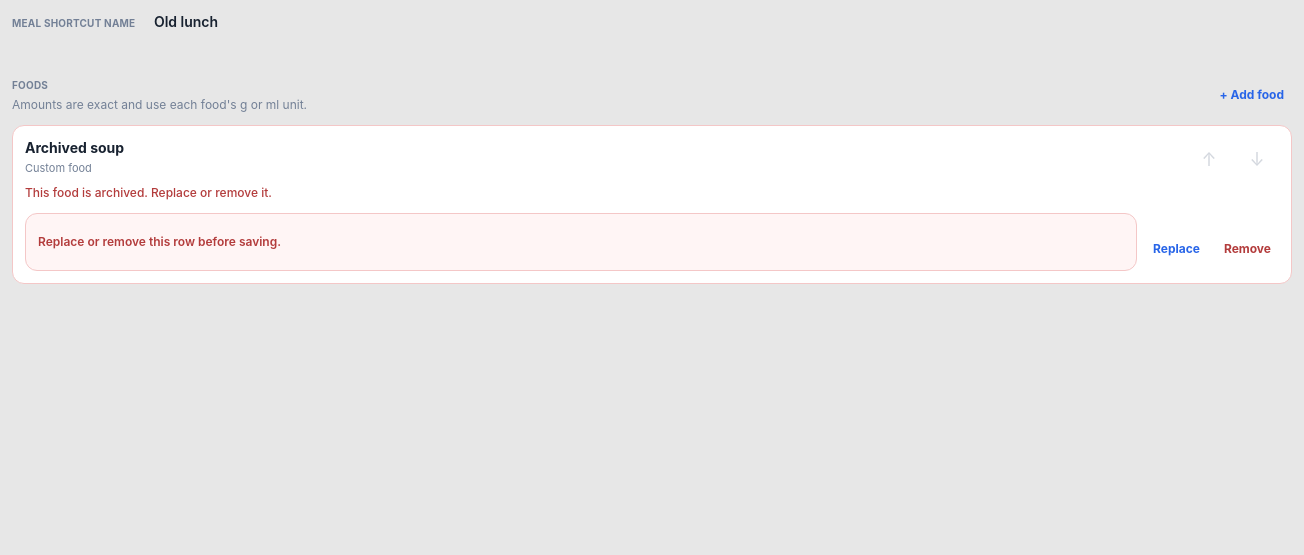
Test case: MealShortcutEditor › keeps blocked rows visible until they are replaced with an active food
Click the button "Replace" at (1176, 248), box [1145, 226, 1208, 270]
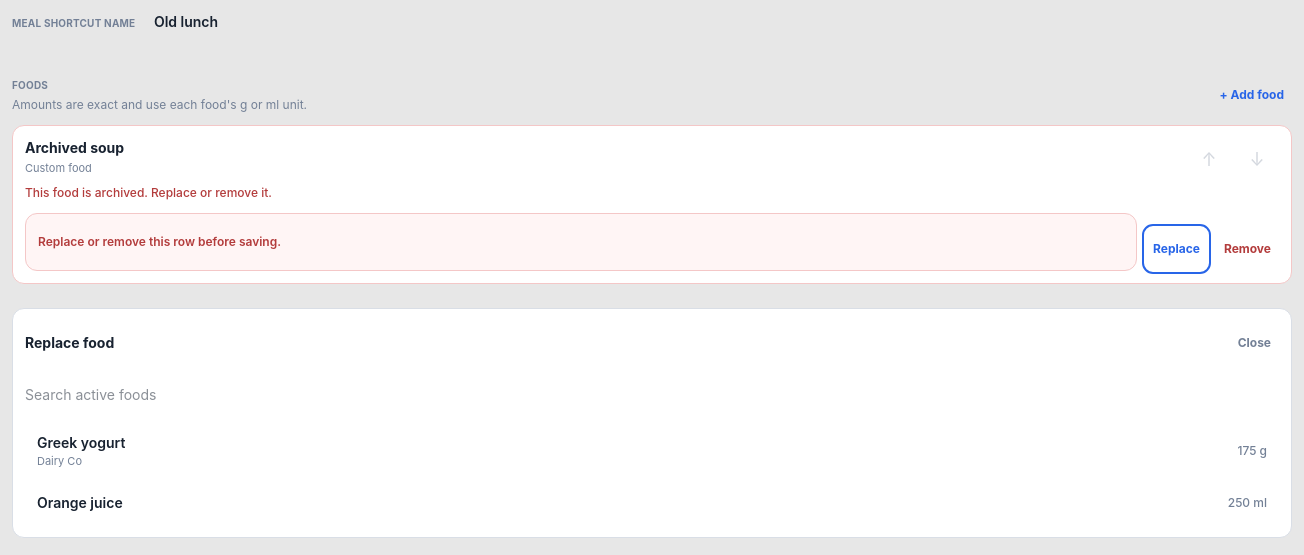
Type "orange" into the search field labelled "Search active foods" at (134, 394), box [25, 372, 243, 416]
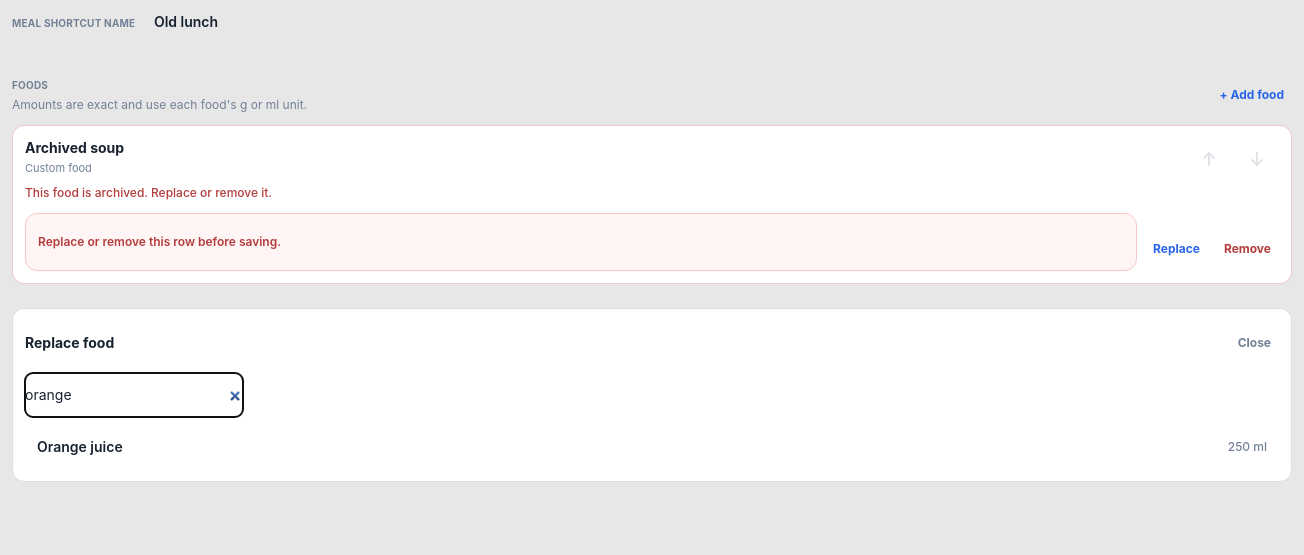
Expected: the button "Orange juice 250 ml" is shown
Click the button "Orange juice 250 ml" at (80, 446), box [25, 424, 1279, 468]
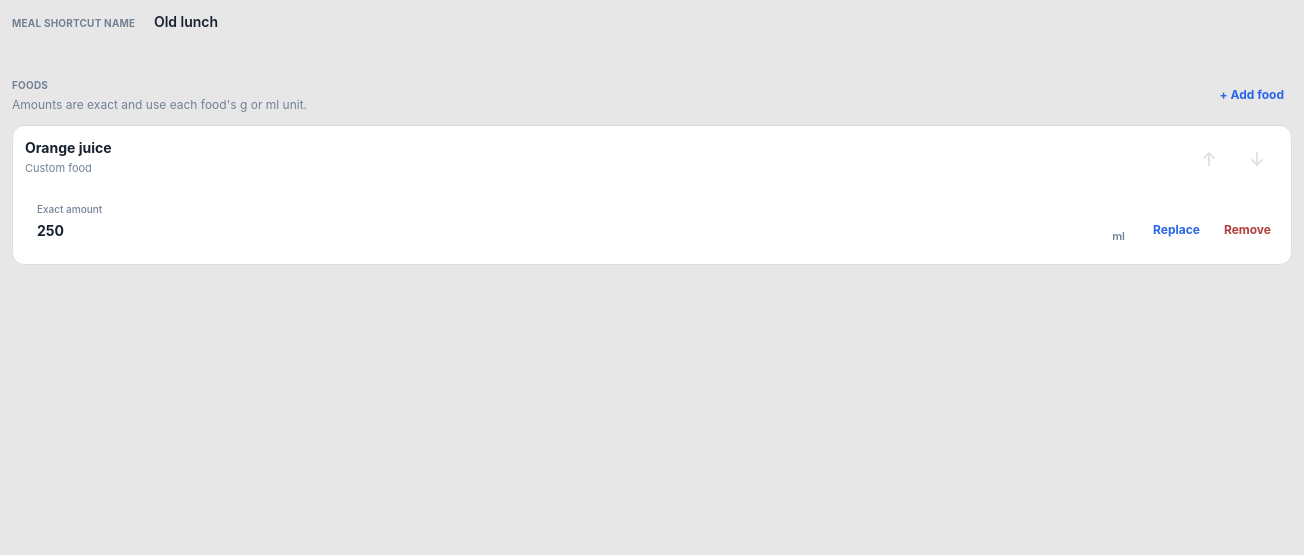
Expected: the heading "Orange juice" is shown, [25, 139, 112, 156]
Expected: the number field labelled "Exact amount" holds "250", [25, 194, 218, 252]
